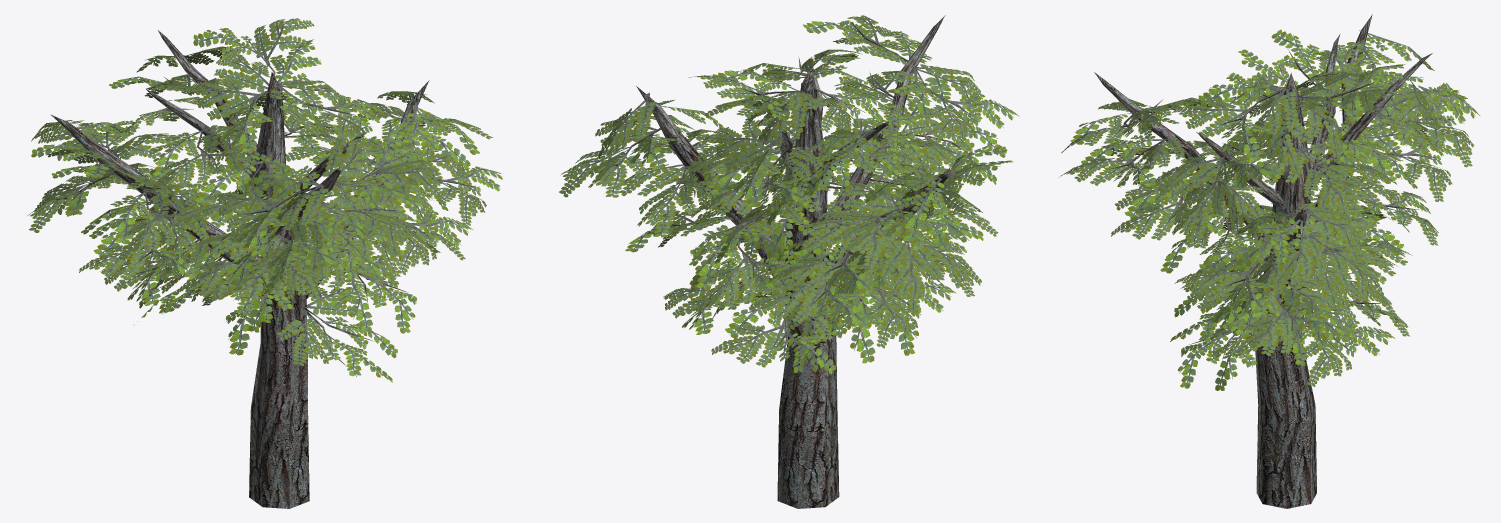
Rendered from Tree_02_01.obj.
3 views of the same model, side by side, from view 1: azimuth 30°, elevation 25°; view 2: azimuth 150°, elevation 25°; view 3: azimuth 270°, elevation 25° (orthographic). The views are drawn at different scales.
Parts seen in each view (by area): view 1: polySurface991; view 2: polySurface991; view 3: polySurface991.
Boxes of the visible parts, x1,y1,x2,y2 form: polySurface991: [27, 18, 502, 508]; polySurface991: [559, 15, 1019, 508]; polySurface991: [1058, 14, 1480, 508].
Bounding box in the file's own units: 169 × 162 × 148.
Materials: 1 (1 with a texture image).
